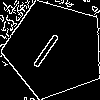I: (29, 24, 68, 70)
